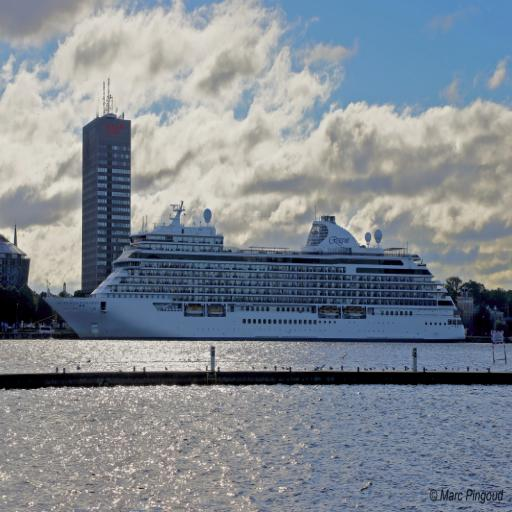cruises: (43, 199, 470, 350)
